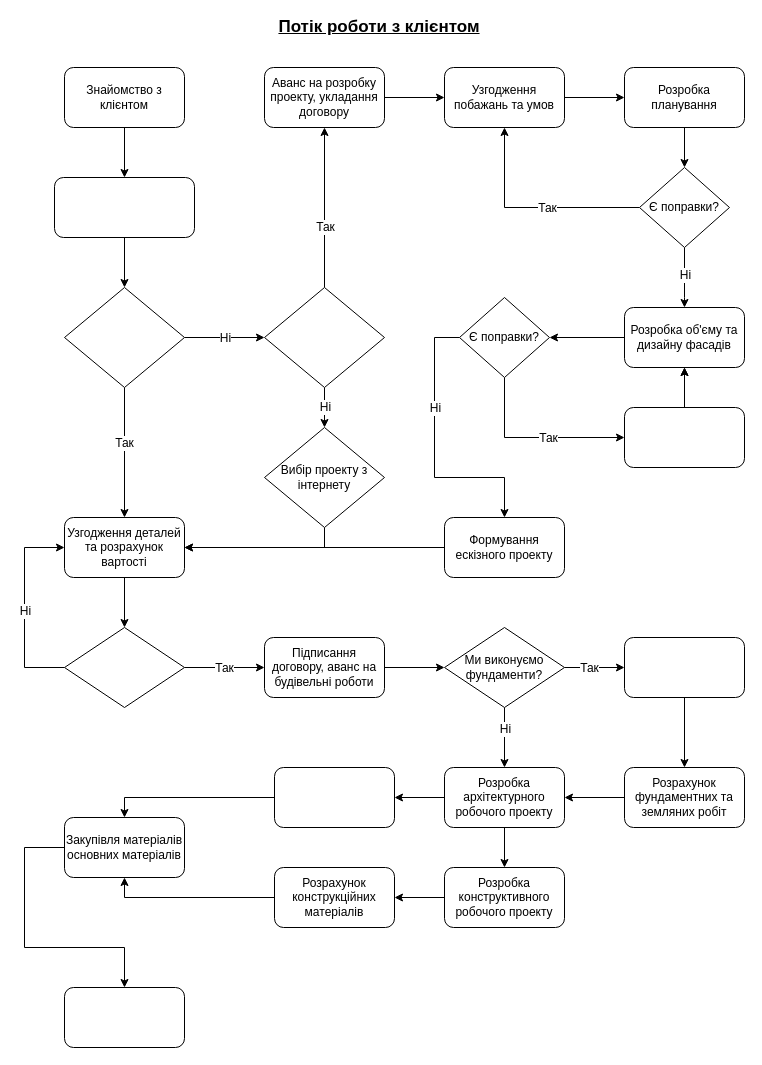
Image size: 762x1065. Some labels were removed from this diagram. Each missing label, with the centre of its shape:
"Визначення потреби, консультація, презентація" belongs at point 124,207.
"Виїзд на ділянку, аналіз території" belongs at point 684,667.
"Потрібен індивідуальний проект?" belongs at point 324,337.
"Підготовка до будівництва" belongs at point 124,1017.
"Розрахунок необхідних матеріалів" belongs at point 334,797.
"У клієнта є проект?" belongs at point 124,337.
"Узгодження поправок та побажань" belongs at point 684,437.
"Ціна влаштовує?" belongs at point 124,667.
